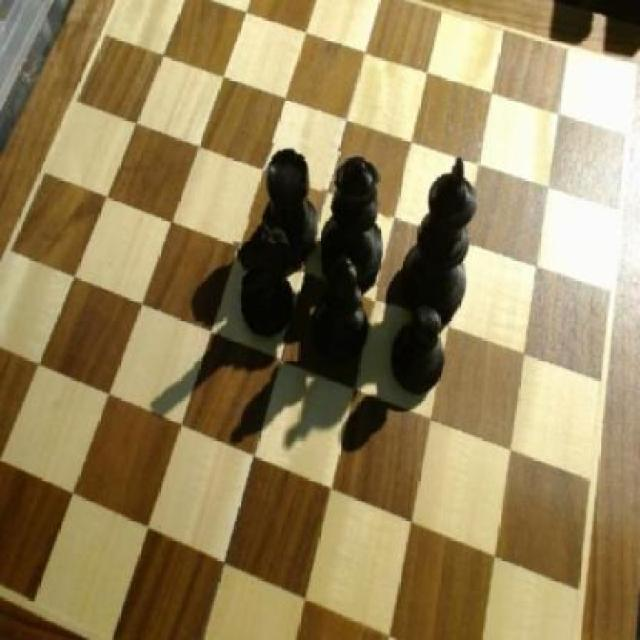bishop: (309, 246, 377, 369)
black-bishop: (403, 151, 475, 330)
black-king: (230, 220, 302, 342)
black-knight: (388, 302, 452, 396)
black-pawn: (320, 152, 392, 286)
black-queen: (262, 145, 323, 267)
